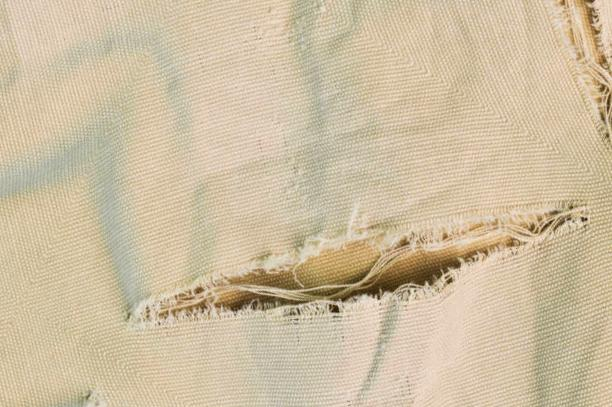hole: (114, 193, 595, 338), (552, 0, 612, 149)
